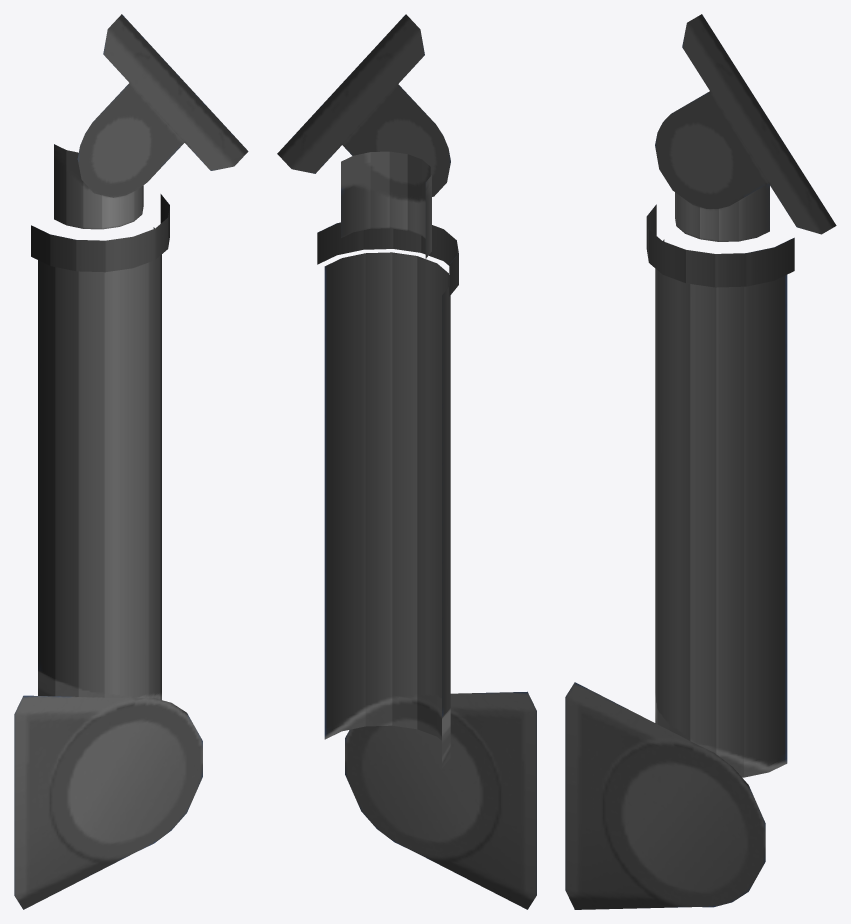
3 views of the same model, side by side, from view 1: azimuth 30°, elevation 25°; view 2: azimuth 150°, elevation 25°; view 3: azimuth 330°, elevation 25° (orthographic). The views are drawn at different scales.
Parts seen in each view (by area): view 1: default leg; view 2: default leg; view 3: default leg.
Part boxes in pixels (left/top/right/bottom): default leg: left=14, top=14, right=248, bottom=909; default leg: left=277, top=14, right=536, bottom=909; default leg: left=565, top=14, right=836, bottom=909.
Bounding box in the file's own units: 0.6724 × 2.26 × 0.1782.
Materials: 1 (1 with a texture image).
